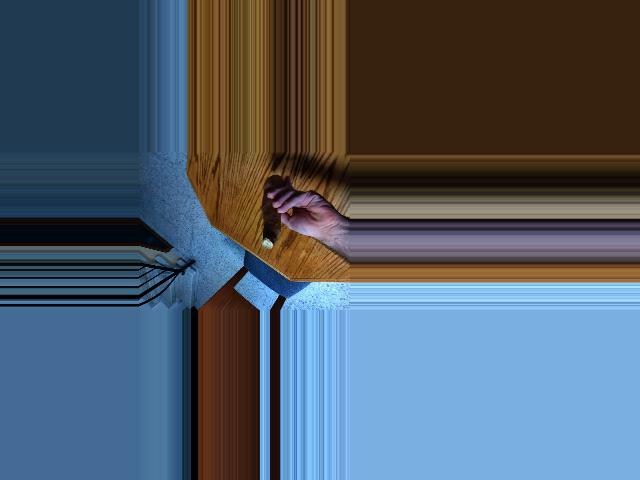sweet_potato: (263, 187, 278, 250)
